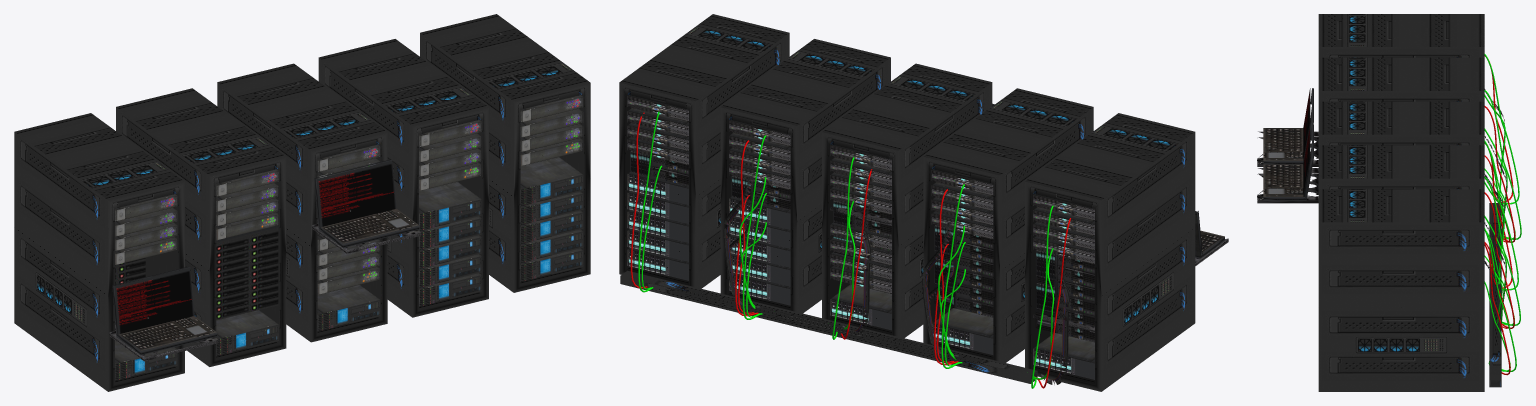
The model's file is SuperComputer.glb.
3 views of the same model, side by side, from view 1: azimuth 30°, elevation 25°; view 2: azimuth 150°, elevation 25°; view 3: azimuth 270°, elevation 25° (orthographic). The views are drawn at different scales.
Parts seen in each view (by area): view 1: Super_camputer; view 2: Super_camputer; view 3: Super_camputer.
Part boxes in pixels (x1,y1,x2,y2): Super_camputer: [14, 14, 590, 391]; Super_camputer: [619, 14, 1228, 391]; Super_camputer: [1257, 14, 1521, 391].
Size of the model in its own units: 340 by 129 by 183.
Materials: 1 (1 with a texture image).
